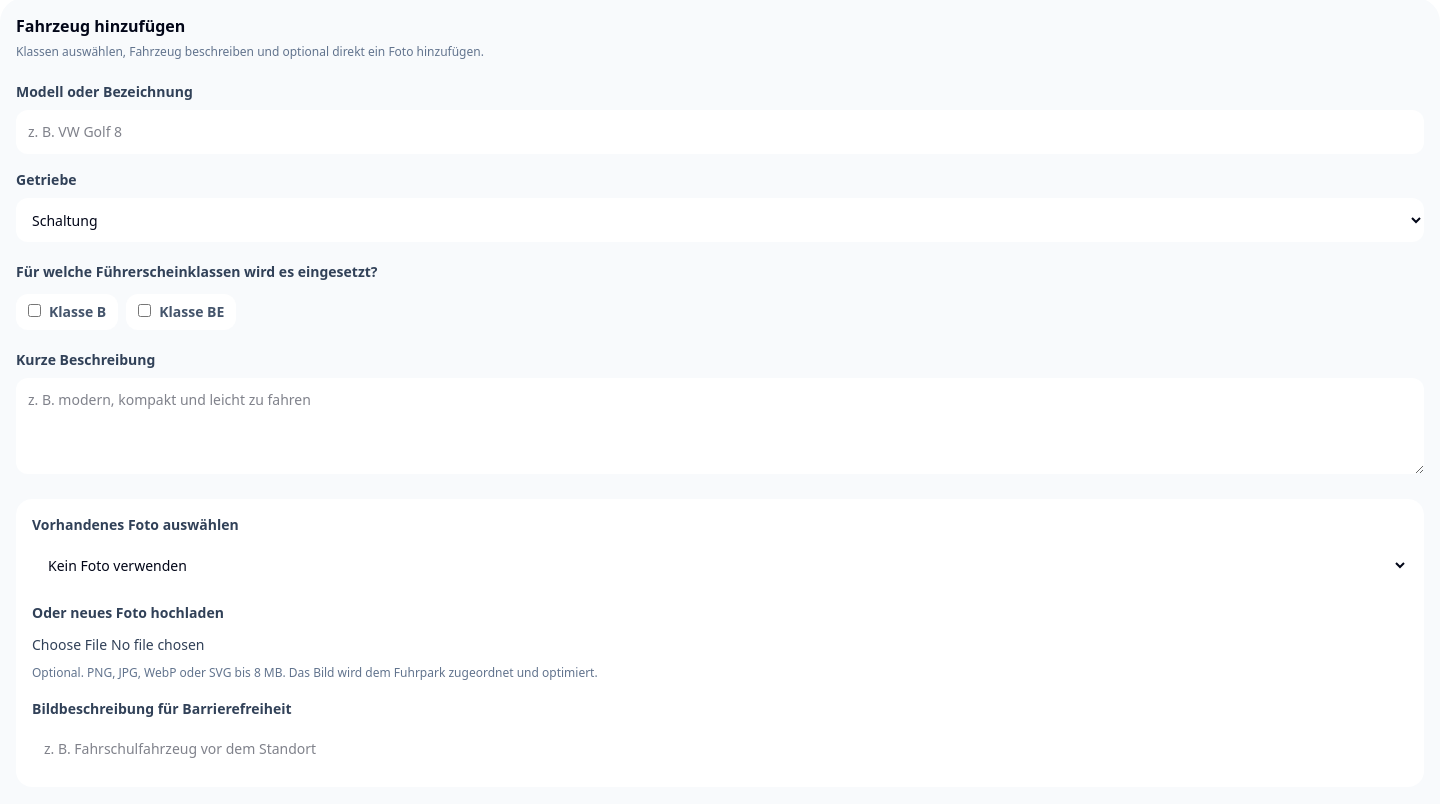
Test: VehicleSetupForm › requires one of the previously selected license classes
The width and height of the screenshot is (1440, 804).
Click the checkbox labelled "Klasse B" at (34, 310), box top-left (28, 304), bottom-right (41, 317)
(page scrolled)
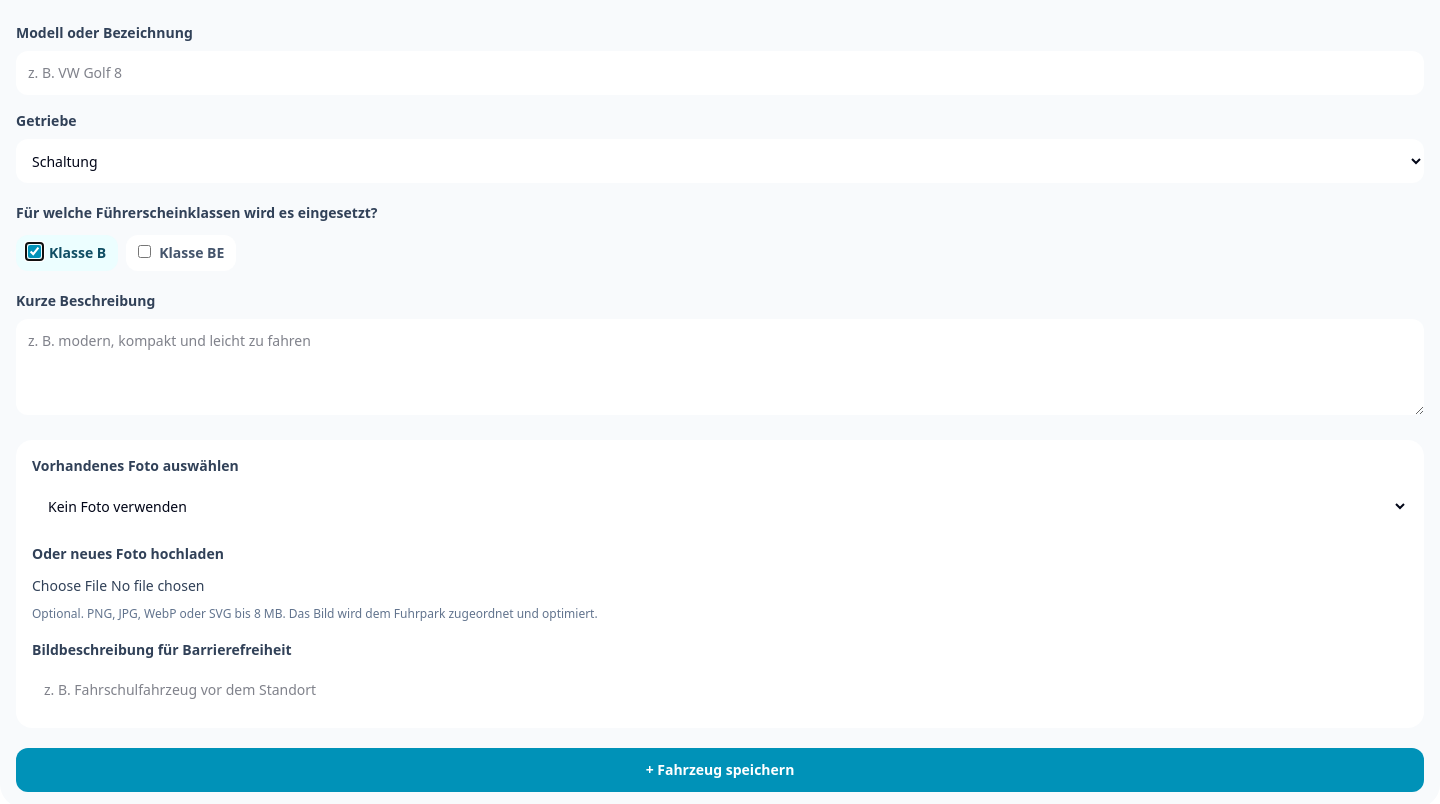
Check: the button "+ Fahrzeug speichern" is enabled, box top-left (16, 748), bottom-right (1424, 792)
